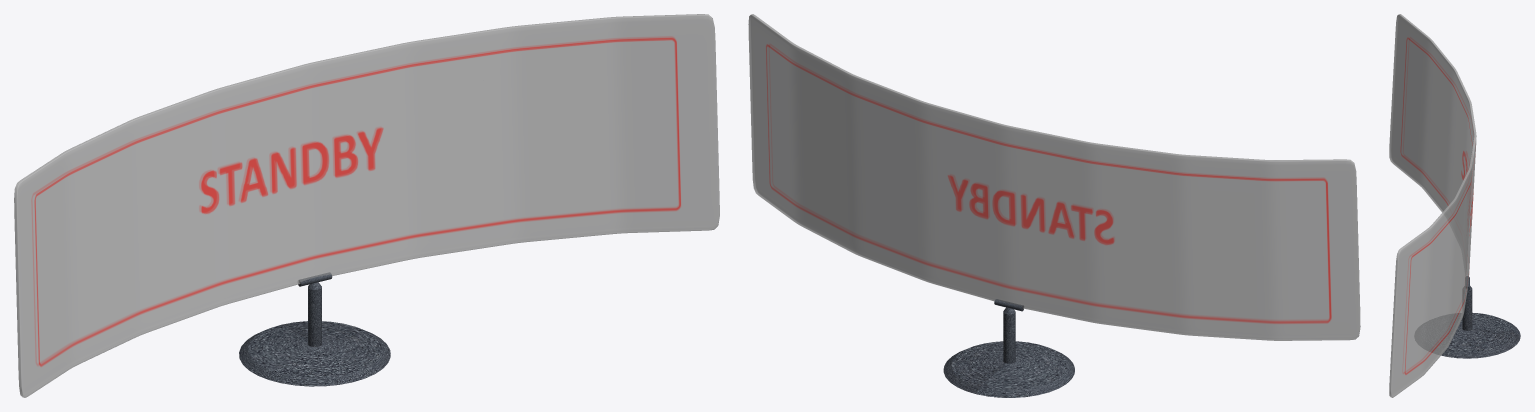
Rendered from futureScreen5.glb.
3 renders of one model, left to right at view 1: azimuth 30°, elevation 25°; view 2: azimuth 150°, elevation 25°; view 3: azimuth 270°, elevation 25°, orthographic. The views are drawn at different scales.
Parts seen in each view (by area): view 1: screen.004, foot.004; view 2: screen.004, foot.004; view 3: screen.004, foot.004.
Part boxes in pixels (box(x1,y1,x2,y2)): screen.004: box(14, 14, 719, 397); foot.004: box(239, 272, 390, 386); screen.004: box(748, 14, 1360, 340); foot.004: box(943, 299, 1074, 397); screen.004: box(1389, 14, 1476, 397); foot.004: box(1415, 276, 1520, 358).
Size of the model in its own units: 2.12 by 0.8422 by 0.492.
2 materials, 2 textured.
